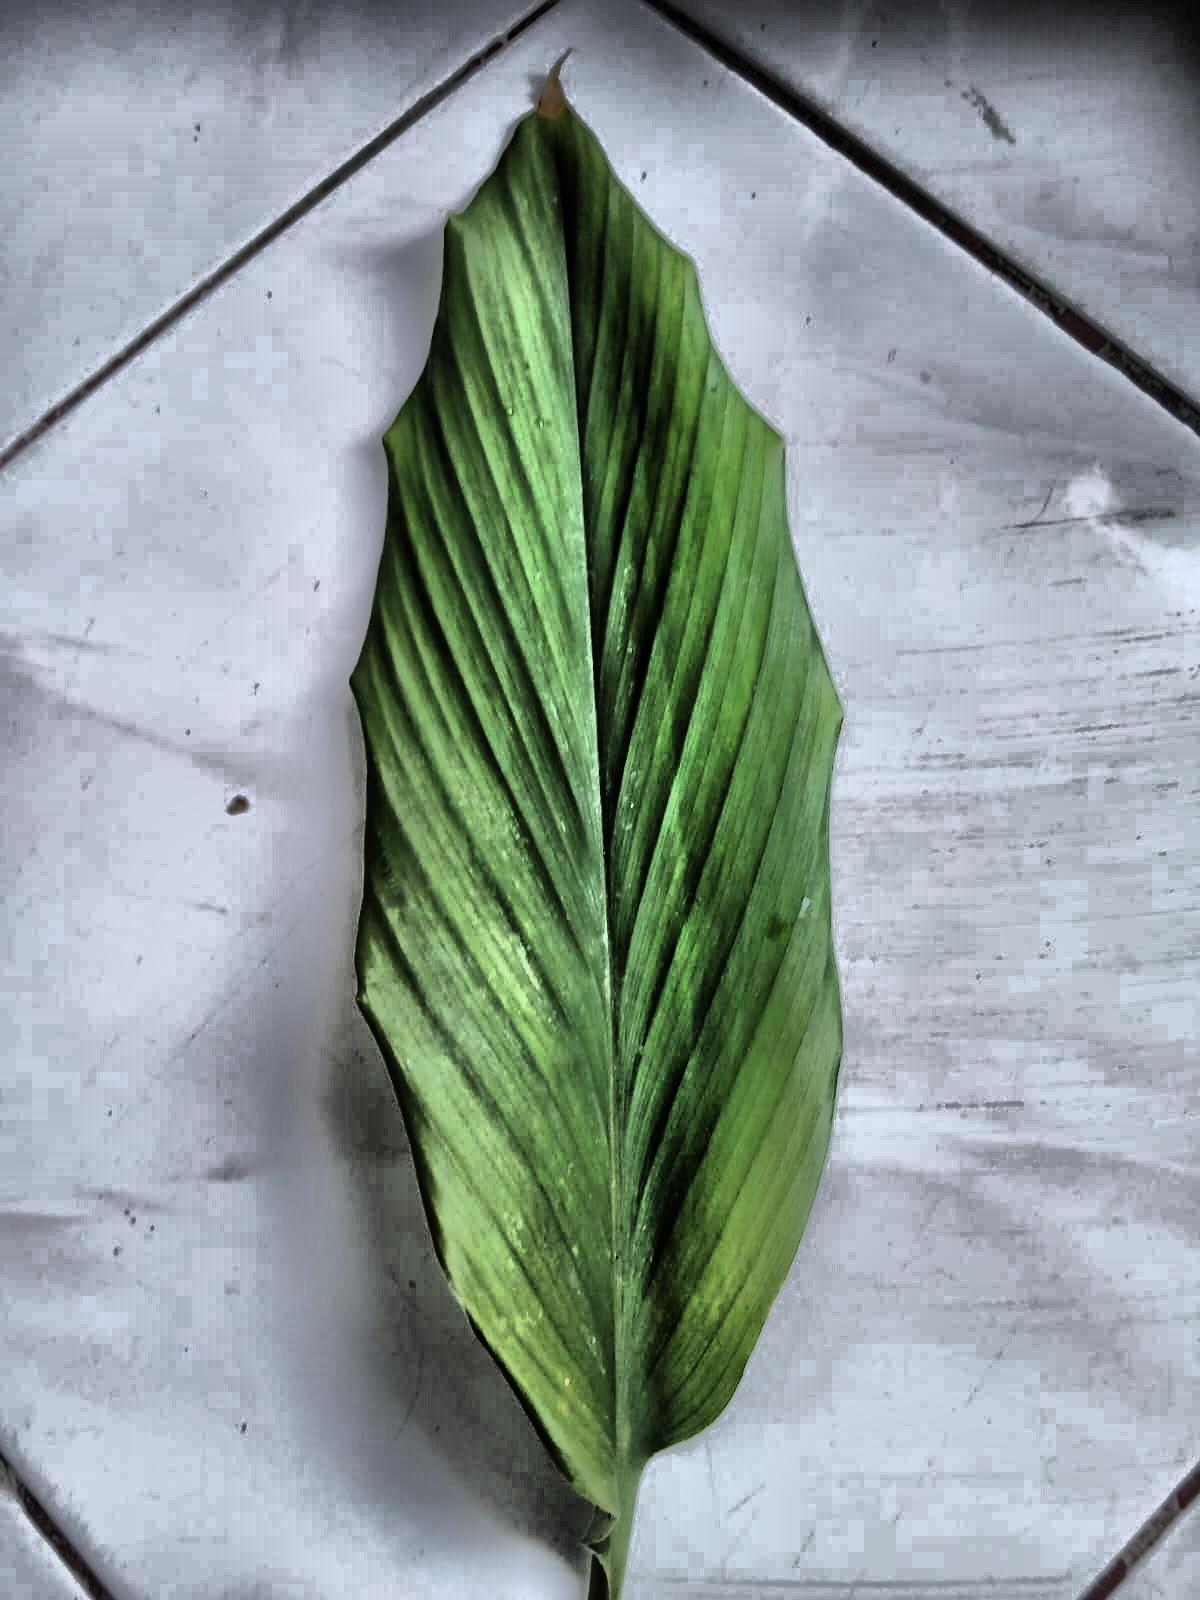daun kunyit: (352, 98, 842, 1599)
